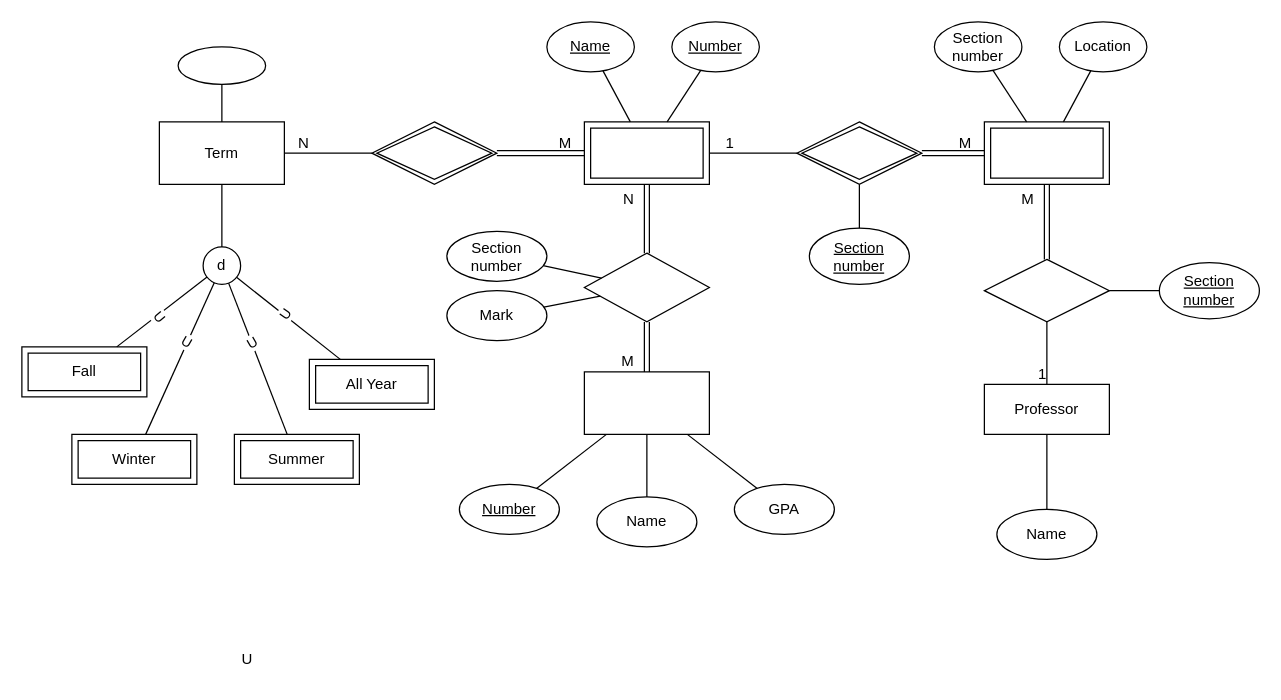
The diagram is 1281 pixels wide and 700 high, and some of its shapes have lost their labels. Each missing label, with the centre of its shape:
"Course" belongs at pixel 646 152.
"Enrolled_in" belongs at pixel 646 287.
"Offered_in" belongs at pixel 434 152.
"Section" belongs at pixel 1046 152.
"Section_of" belongs at pixel 859 152.
"Student" belongs at pixel 646 402.
"Teaches" belongs at pixel 1046 290.
"Year" belongs at pixel 221 65.
